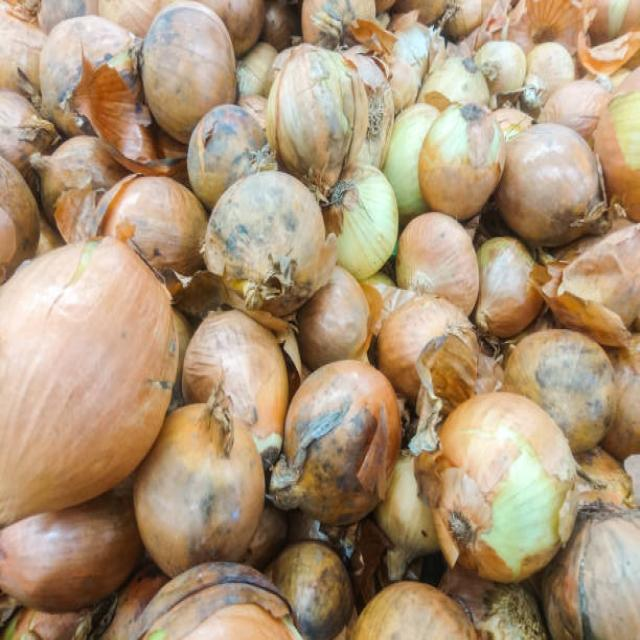rotten: (2, 237, 178, 527), (418, 390, 578, 584), (134, 389, 266, 576), (268, 357, 402, 524), (202, 167, 332, 318), (180, 306, 293, 462), (266, 43, 369, 195), (501, 326, 613, 455), (139, 0, 236, 144), (496, 121, 602, 248), (38, 14, 140, 142), (540, 506, 639, 636), (536, 220, 639, 344), (374, 294, 480, 414), (92, 173, 207, 280), (418, 99, 507, 220), (29, 135, 128, 237), (394, 210, 482, 316), (185, 103, 270, 212), (265, 539, 355, 640), (296, 265, 375, 372), (326, 163, 398, 279), (344, 14, 430, 110), (472, 235, 549, 338), (348, 577, 479, 637), (381, 105, 443, 220), (0, 150, 41, 282), (501, 0, 589, 60), (0, 85, 55, 178), (574, 8, 639, 86), (180, 0, 264, 57), (0, 5, 47, 104), (538, 77, 610, 141), (418, 52, 489, 114), (300, 0, 381, 50), (472, 39, 525, 102), (523, 40, 575, 99), (461, 0, 515, 56), (362, 279, 412, 337), (98, 0, 168, 39), (496, 74, 545, 118), (35, 0, 90, 35), (267, 46, 301, 95)
